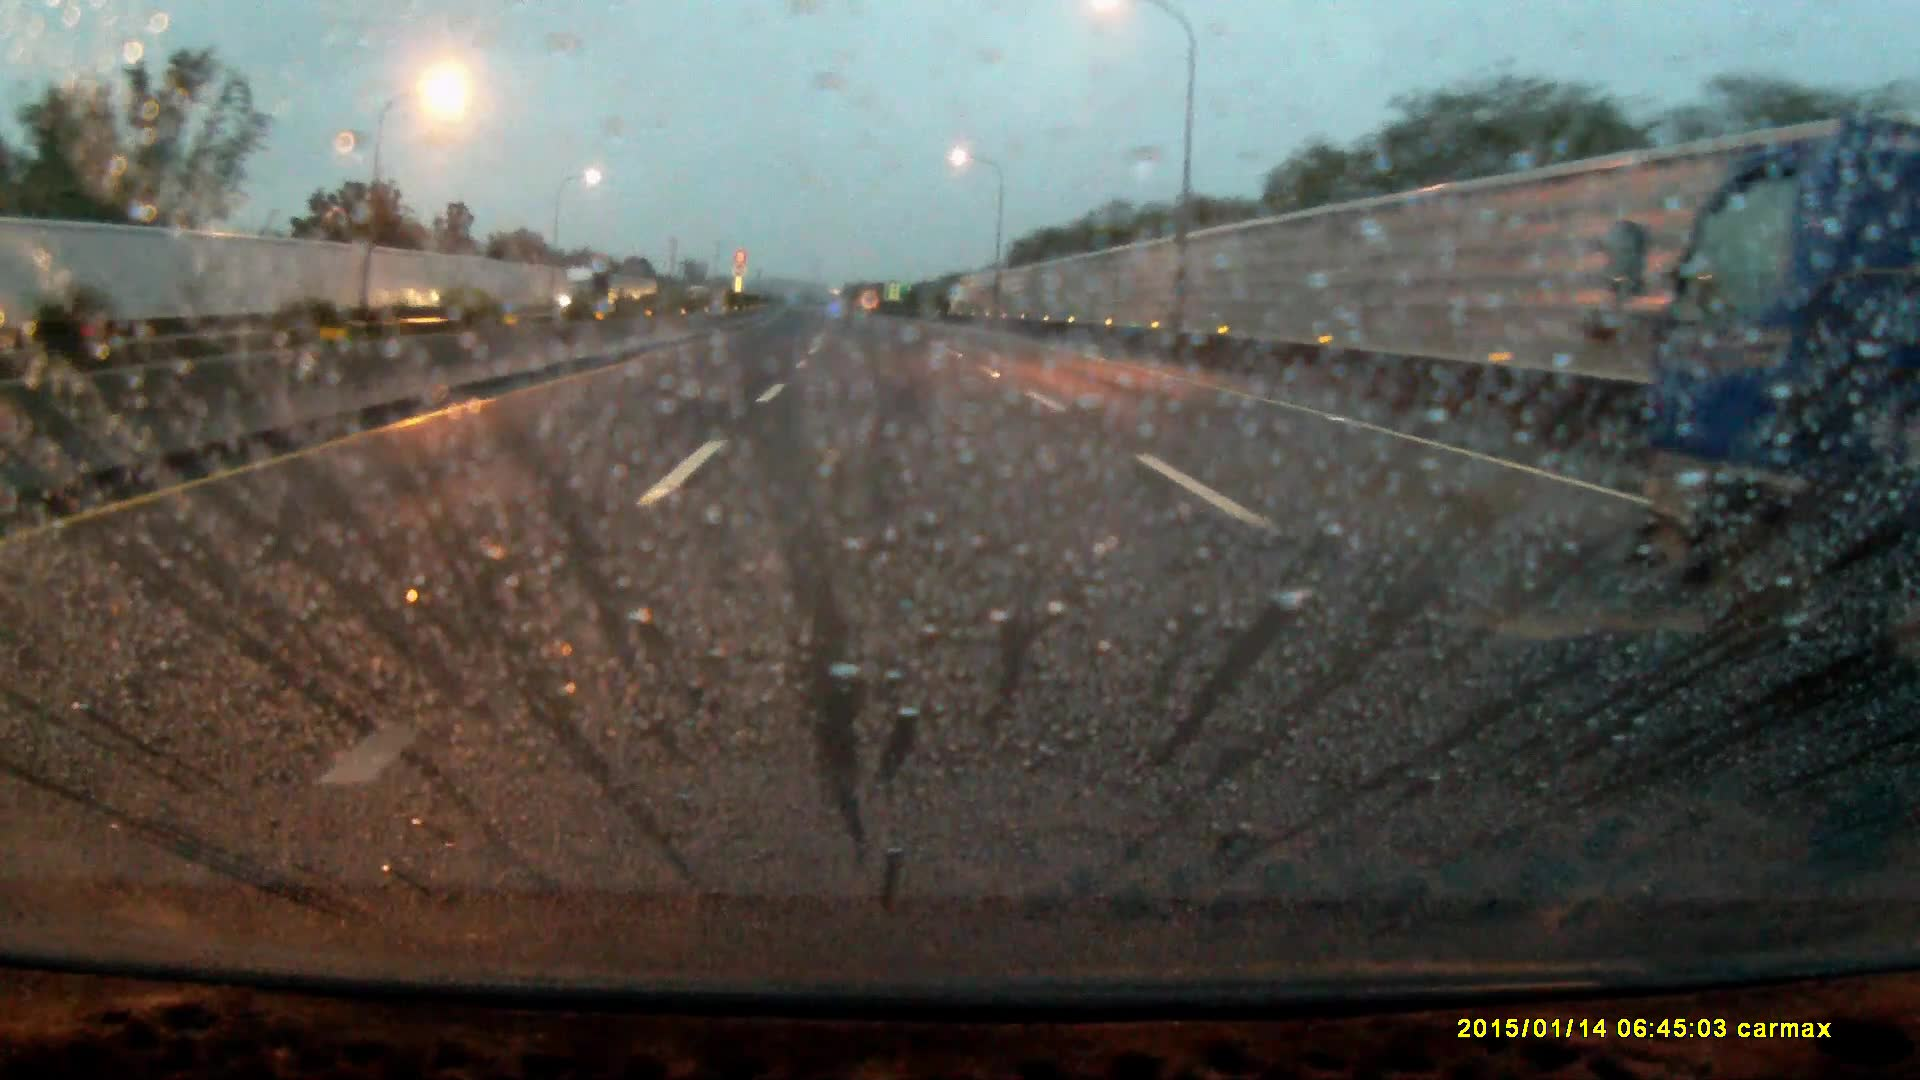vehicle: (1622, 135, 1920, 608), (563, 266, 608, 313)
